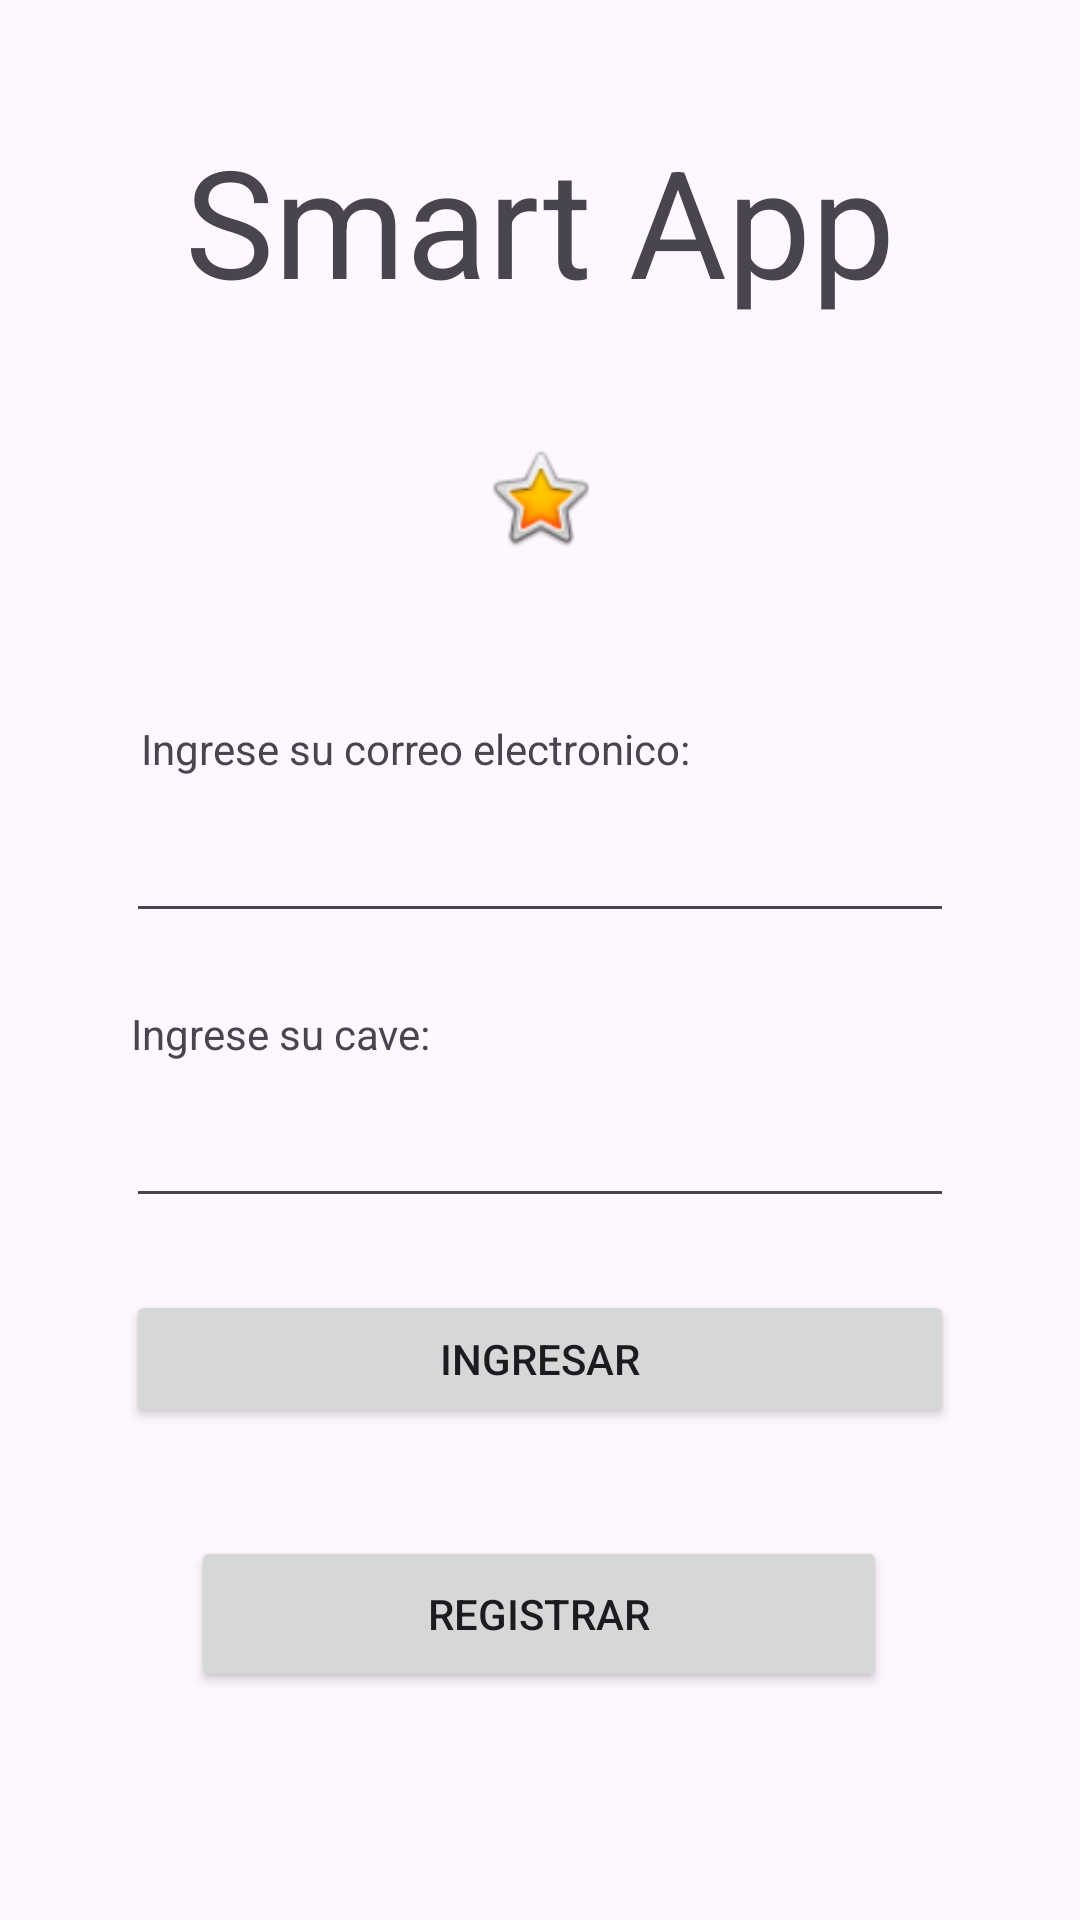

Icons on this 1080w x 1920h Android screen, each with the point to tap as (x=x, y=y):
star on: (x=541, y=498)
